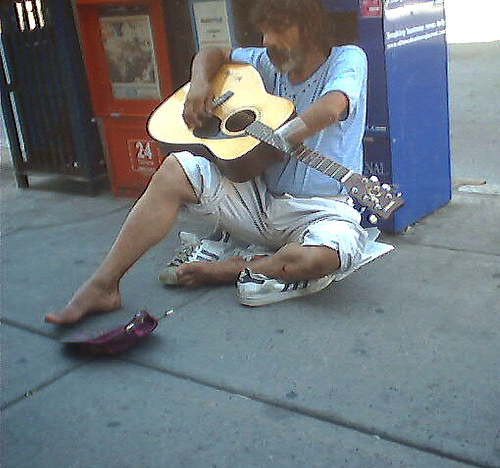guitar: (145, 63, 406, 222)
